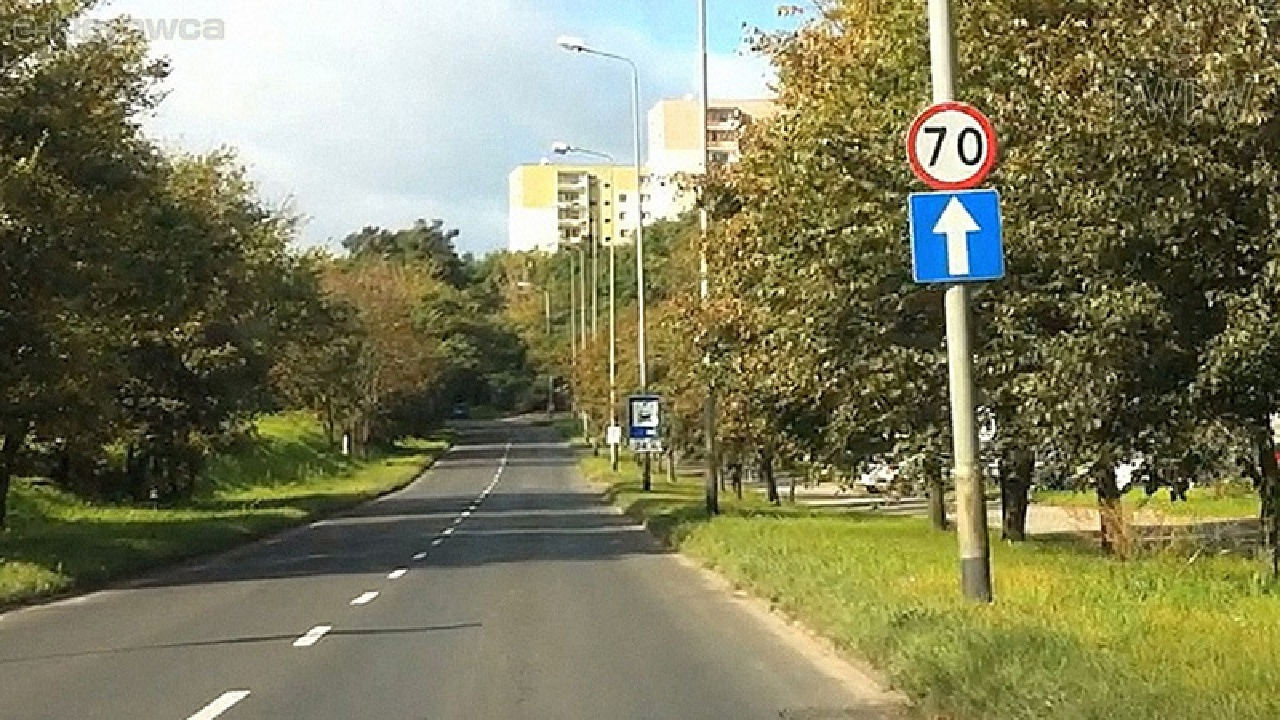B33_70: (902, 102, 997, 190)
D3: (906, 190, 1006, 283)
